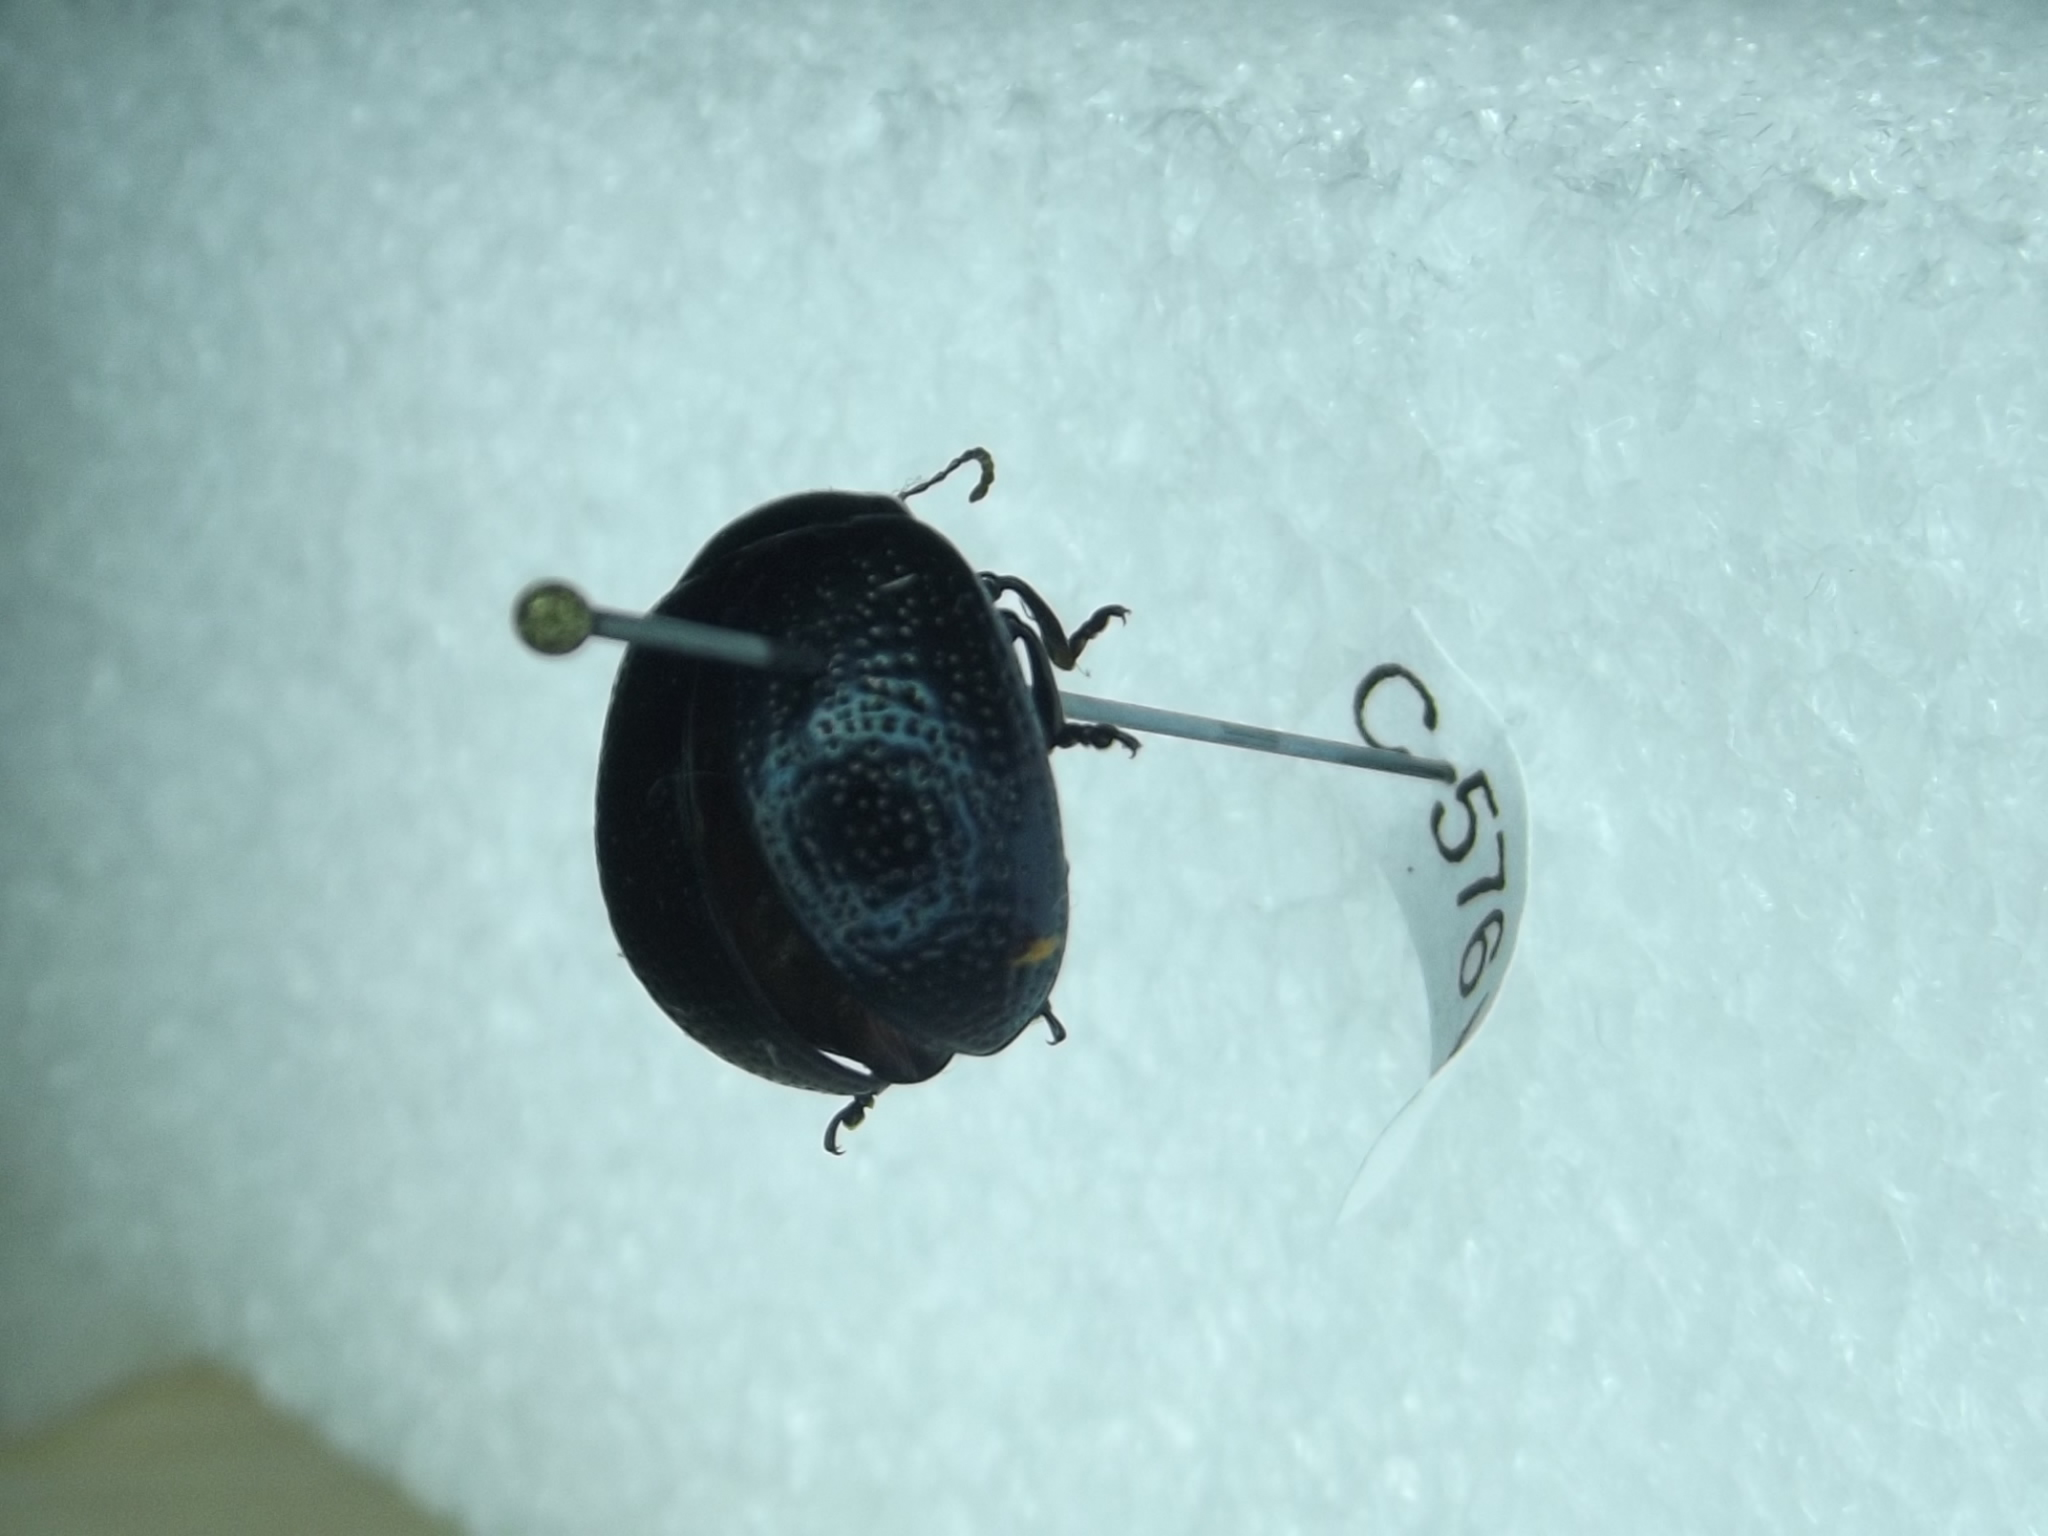Chrysolina_oricalcia: (585, 428, 1142, 1162)
